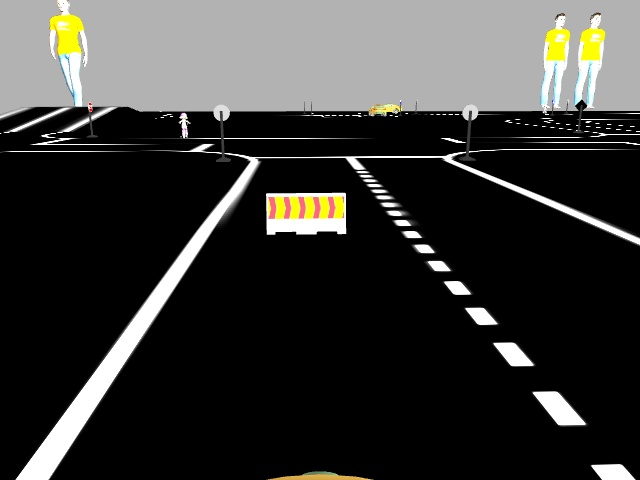ClosedRoadStand: (267, 194, 346, 232)
